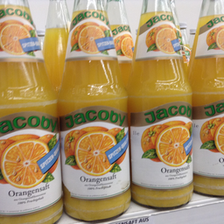juice: (55, 1, 131, 221), (128, 1, 195, 209), (1, 1, 63, 224)
